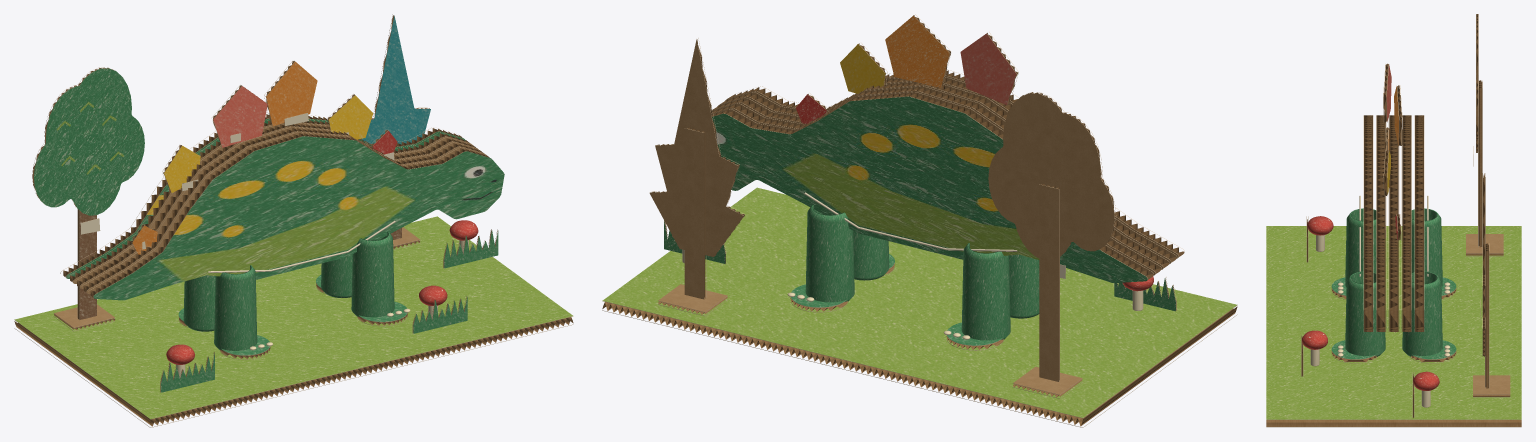
The model's file is 08_cardboard_stegosaurus.glb.
The picture shows the model from 3 angles, left to right: view 1: azimuth 30°, elevation 25°; view 2: azimuth 150°, elevation 25°; view 3: azimuth 270°, elevation 25°; orthographic projection. The views are drawn at different scales.
Parts seen in each view (by area): view 1: artwork_08_cardboard_stegosaurus, lime, green, flute, kraft, edge, teal, orange, yellow, coral, red, brown (+1 smaller); view 2: lime, kraft, artwork_08_cardboard_stegosaurus, green, flute, edge, orange, coral, yellow, red; view 3: lime, flute, green, edge, red, kraft, cream, glue, orange.
Boxes of the visible parts, left/top/right/bottom form: artwork_08_cardboard_stegosaurus: left=34, top=68, right=504, bottom=300; lime: left=14, top=216, right=572, bottom=419; green: left=161, top=230, right=498, bottom=392; flute: left=14, top=15, right=573, bottom=426; kraft: left=54, top=122, right=485, bottom=327; edge: left=14, top=14, right=573, bottom=427; teal: left=361, top=15, right=430, bottom=144; orange: left=132, top=61, right=317, bottom=254; yellow: left=164, top=95, right=373, bottom=192; coral: left=213, top=86, right=267, bottom=147; red: left=166, top=131, right=478, bottom=364; brown: left=79, top=211, right=401, bottom=319; lime: left=602, top=187, right=1237, bottom=417; kraft: left=649, top=40, right=1178, bottom=394; artwork_08_cardboard_stegosaurus: left=712, top=96, right=1147, bottom=282; green: left=664, top=205, right=1175, bottom=345; flute: left=602, top=15, right=1237, bottom=426; edge: left=602, top=14, right=1237, bottom=427; orange: left=885, top=15, right=949, bottom=87; coral: left=960, top=33, right=1016, bottom=104; yellow: left=840, top=44, right=885, bottom=93; red: left=672, top=94, right=1153, bottom=291; lime: left=1266, top=226, right=1521, bottom=419; flute: left=1266, top=14, right=1521, bottom=426; green: left=1331, top=208, right=1456, bottom=359; edge: left=1266, top=14, right=1521, bottom=427; red: left=1302, top=215, right=1439, bottom=390; kraft: left=1466, top=234, right=1510, bottom=394; cream: left=1310, top=235, right=1450, bottom=407; glue: left=1359, top=195, right=1428, bottom=276; orange: left=1388, top=86, right=1398, bottom=149.
Size of the model in its own units: 0.6217 by 0.3628 by 0.34.
16 materials, 13 textured.
